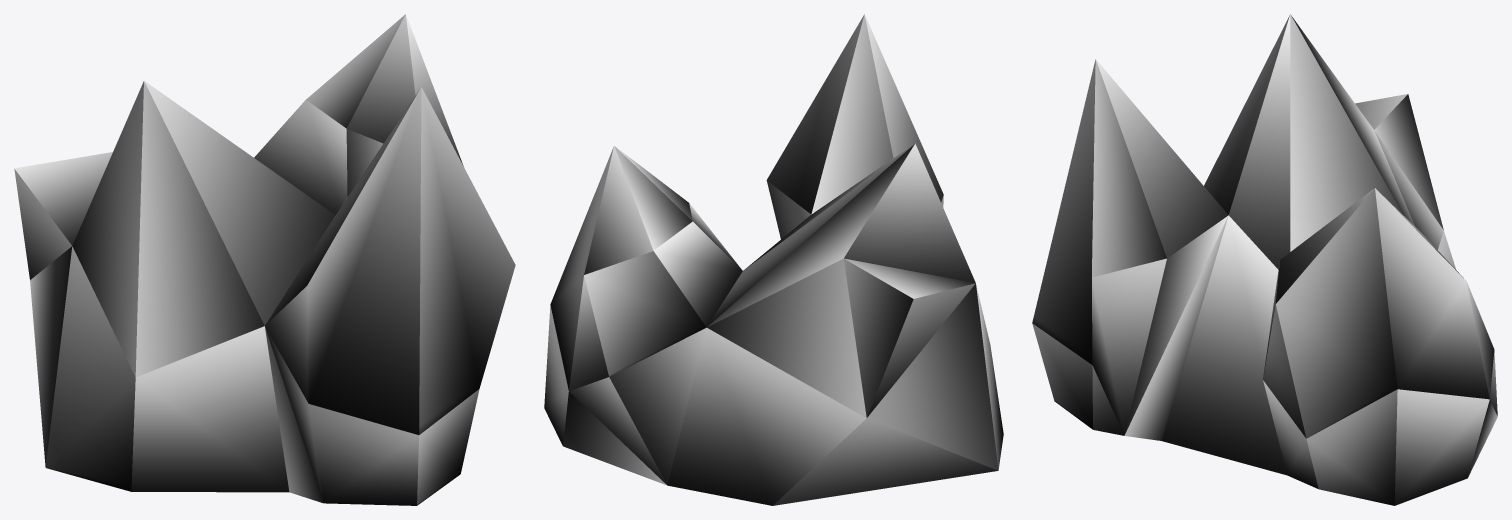
The model's file is ice.FBX.
The picture shows the model from 3 angles, left to right: view 1: azimuth 30°, elevation 25°; view 2: azimuth 150°, elevation 25°; view 3: azimuth 270°, elevation 25°; orthographic projection. The views are drawn at different scales.
Visible parts, largest first — view 1: Box008; view 2: Box008; view 3: Box008.
Boxes of the visible parts, <box> form: Box008: <box>14,14,515,505</box>; Box008: <box>544,14,1003,505</box>; Box008: <box>1032,14,1497,505</box>.
Bounding box in the file's own units: 102 × 80.48 × 95.79.
